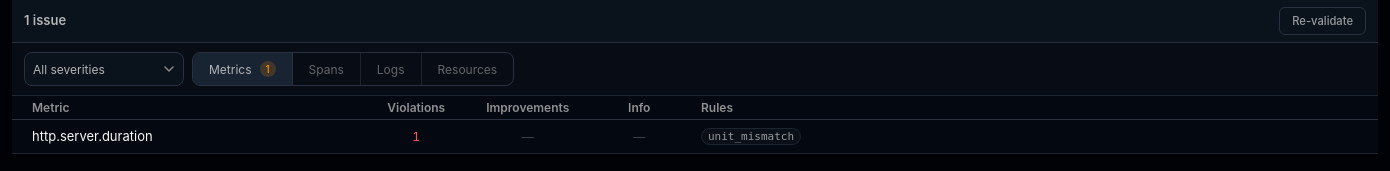
Test: FindingsTab › keeps an empty validation tab selected and shows its empty state
What coordinates should you click on to do the following:
click the radio button labelled "Resources"
I would click on:
 (467, 69)
Its box is left=422, top=53, right=513, bottom=85.
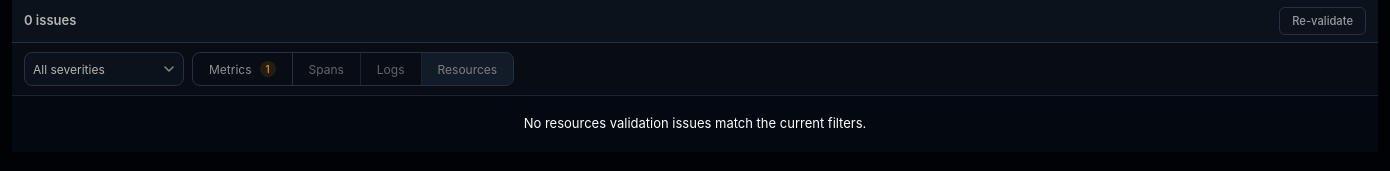
Now the text "No resources validation issues match the current filters." is shown, box left=524, top=114, right=866, bottom=134
Now the element with class "findings-tab__list" is gone
